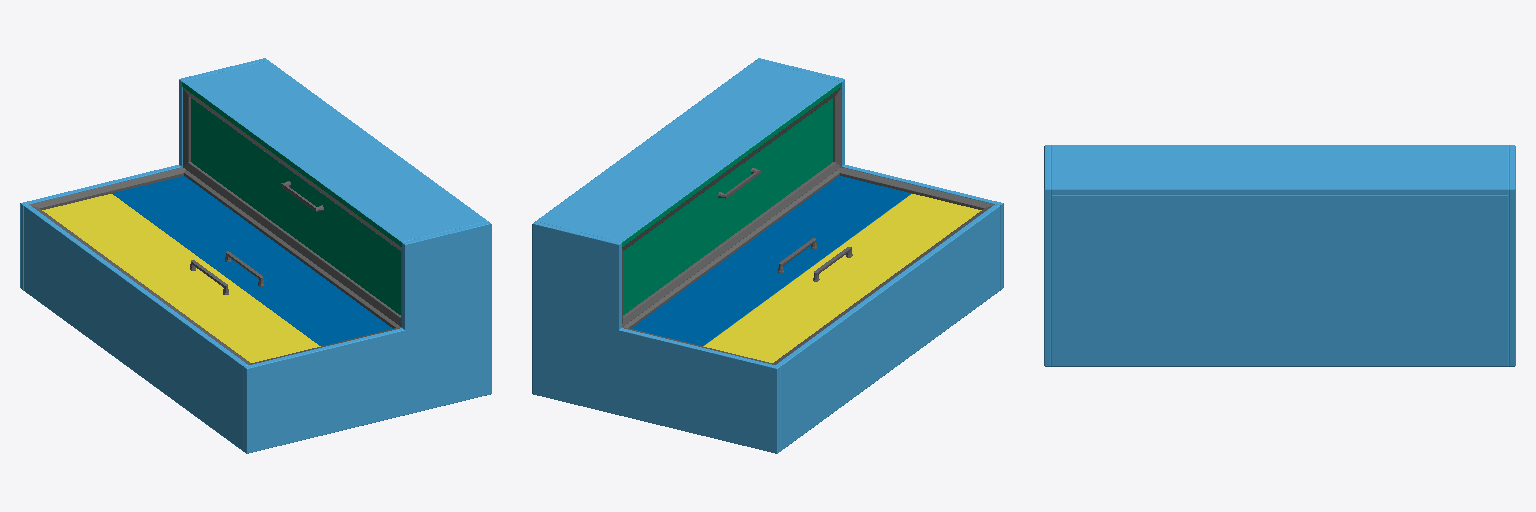
The robot description file, URDF, robot "187":
<robot name="187">


	<link name="0:virtual">
		<visual>
			<origin xyz="0.0 0.0 0.0" rpy="0 0 0"/>
			<geometry>
				<cylinder length="0" radius="0"/>
			</geometry>
		</visual>
	</link>


	<link name="1:static">
		<visual>
			<origin xyz="-0.0 -0.0 -0.0" rpy="0 0 0"/>
			<geometry>
				<mesh filename="../raw_data/187/part_meshes/1.dae" />
			</geometry>
		</visual>
	</link>


	<link name="2:door 1">
		<visual>
			<origin xyz="-0.21788372811951034 -1.0800000568851829 0.02757142707403364" rpy="0 0 0"/>
			<geometry>
				<mesh filename="../raw_data/187/part_meshes/2.dae" />
			</geometry>
		</visual>
	</link>


	<link name="3:door 2">
		<visual>
			<origin xyz="0.6443700194358826 -1.080000028014183 0.031111051328480244" rpy="0 0 0"/>
			<geometry>
				<mesh filename="../raw_data/187/part_meshes/3.dae" />
			</geometry>
		</visual>
	</link>


	<link name="4:door 3">
		<visual>
			<origin xyz="-0.1938921637893131 -1.080000028014183 0.03200986613455429" rpy="0 0 0"/>
			<geometry>
				<mesh filename="../raw_data/187/part_meshes/4.dae" />
			</geometry>
		</visual>
	</link>


	<joint name="0:virtual::1:static" type="fixed">
		<parent link="0:virtual"/>
		<child link="1:static"/>
		<origin xyz="0.0 0.0 0.0" rpy="0 0 0"/>
	</joint>


	<joint name="0:virtual::2:door 1_rotation" type="revolute">
		<parent link="0:virtual"/>
		<child link="2:door 1"/>
		<origin xyz="0.21788372811951034 1.0800000568851829 -0.02757142707403364" rpy="0 0 0"/>
		<limit lower="-1.319468914507713" upper="0.0" effort="10" velocity="3"/>
		<axis xyz="0.0 1.0 0.0"/>
	</joint>


	<joint name="0:virtual::3:door 2_rotation" type="revolute">
		<parent link="0:virtual"/>
		<child link="3:door 2"/>
		<origin xyz="-0.6443700194358826 1.080000028014183 -0.031111051328480244" rpy="0 0 0"/>
		<limit lower="-1.6964600329384885" upper="0.0" effort="10" velocity="3"/>
		<axis xyz="0.0 1.0 0.0"/>
	</joint>


	<joint name="0:virtual::4:door 3_rotation" type="revolute">
		<parent link="0:virtual"/>
		<child link="4:door 3"/>
		<origin xyz="0.1938921637893131 1.080000028014183 -0.03200986613455429" rpy="0 0 0"/>
		<limit lower="0.0" upper="1.429424657383356" effort="10" velocity="3"/>
		<axis xyz="0.0 1.0 0.0"/>
	</joint>


</robot>

--- What the picture shows (computed from the rendered views, not written in the file) ---
The picture shows the robot from 3 angles, left to right: view 1: azimuth 30°, elevation 25°; view 2: azimuth 150°, elevation 25°; view 3: azimuth 270°, elevation 25°; orthographic projection.
Robot: 187 — 5 links, 4 joints (3 revolute, 1 fixed); root link 0:virtual; default pose: all joints at 0.
Links seen in each view (by area): view 1: 1:static, 2:door 1, 4:door 3, 3:door 2; view 2: 1:static, 2:door 1, 4:door 3, 3:door 2; view 3: 1:static.
Link boxes in pixels (<box>): 1:static: <box>20,58,491,453</box>; 2:door 1: <box>182,82,401,326</box>; 4:door 3: <box>112,176,392,345</box>; 3:door 2: <box>42,194,320,362</box>; 1:static: <box>532,58,1003,453</box>; 2:door 1: <box>622,82,841,326</box>; 4:door 3: <box>631,176,911,345</box>; 3:door 2: <box>703,194,981,362</box>; 1:static: <box>1044,145,1515,366</box>.
Size in the robot's own frame: 1.35 by 2.16 by 0.8999 metres.
4 mesh visuals loaded from 4 distinct referenced files (4 Collada DAE).